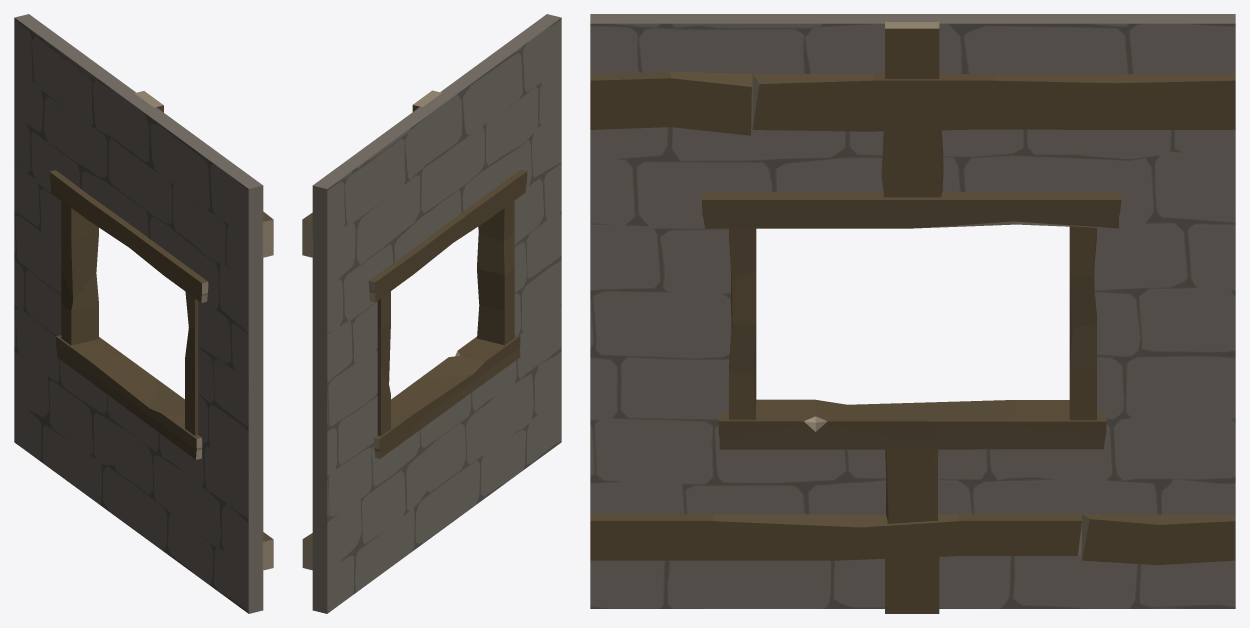
The model's file is SM_Polygonal_Stone_Windowframe.fbx.
3 renders of one model, left to right at view 1: azimuth 30°, elevation 25°; view 2: azimuth 150°, elevation 25°; view 3: azimuth 270°, elevation 25°, orthographic. The views are drawn at different scales.
Visible parts, largest first — view 1: SM_Polygonal_Stone_Windowframe_LOD0; view 2: SM_Polygonal_Stone_Windowframe_LOD0; view 3: SM_Polygonal_Stone_Windowframe_LOD0.
Part boxes in pixels (x1,y1,x2,y2): SM_Polygonal_Stone_Windowframe_LOD0: (14, 14, 273, 613); SM_Polygonal_Stone_Windowframe_LOD0: (302, 14, 561, 613); SM_Polygonal_Stone_Windowframe_LOD0: (590, 14, 1235, 613).
Size of the model in its own units: 24.36 by 300 by 300.
1 material, 1 textured.
